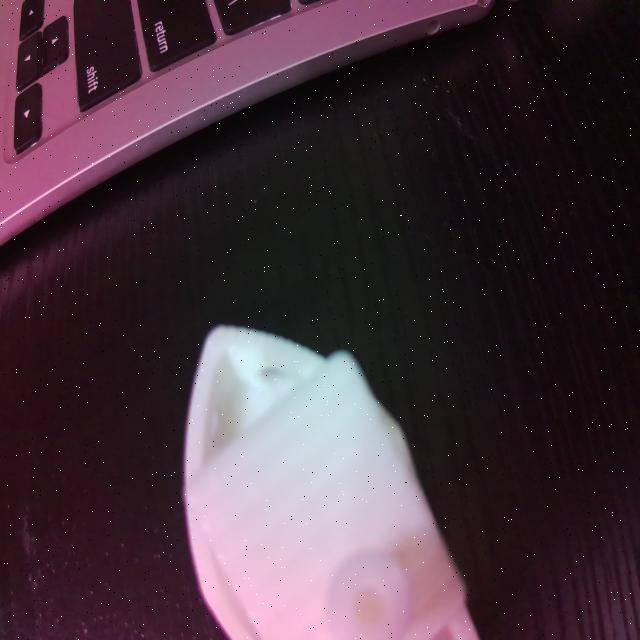ship: (184, 323, 484, 640)
